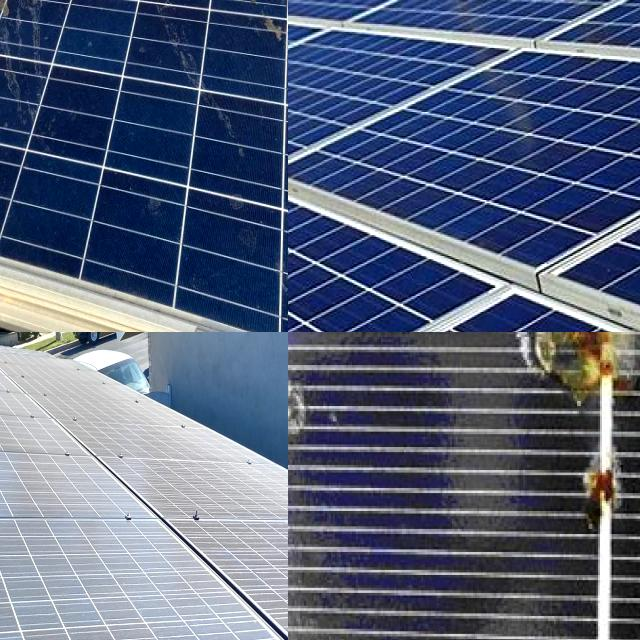bird: (208, 0, 288, 156), (0, 0, 47, 92)
crack: (288, 5, 640, 312), (288, 0, 509, 210), (342, 0, 640, 58)
dust: (9, 538, 144, 638), (136, 438, 268, 506), (0, 520, 64, 640), (0, 448, 101, 502), (0, 360, 87, 417), (159, 581, 215, 640), (190, 518, 248, 574), (0, 341, 44, 406), (0, 445, 44, 509), (264, 541, 288, 620), (104, 401, 154, 437)
shadow: (499, 332, 640, 576), (288, 332, 364, 446)
